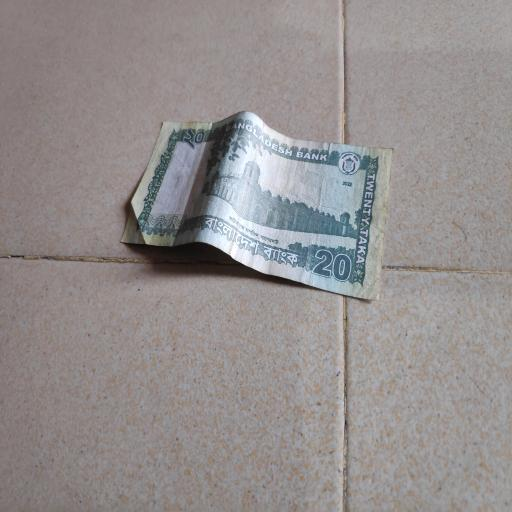20taka: (119, 121, 393, 296)
